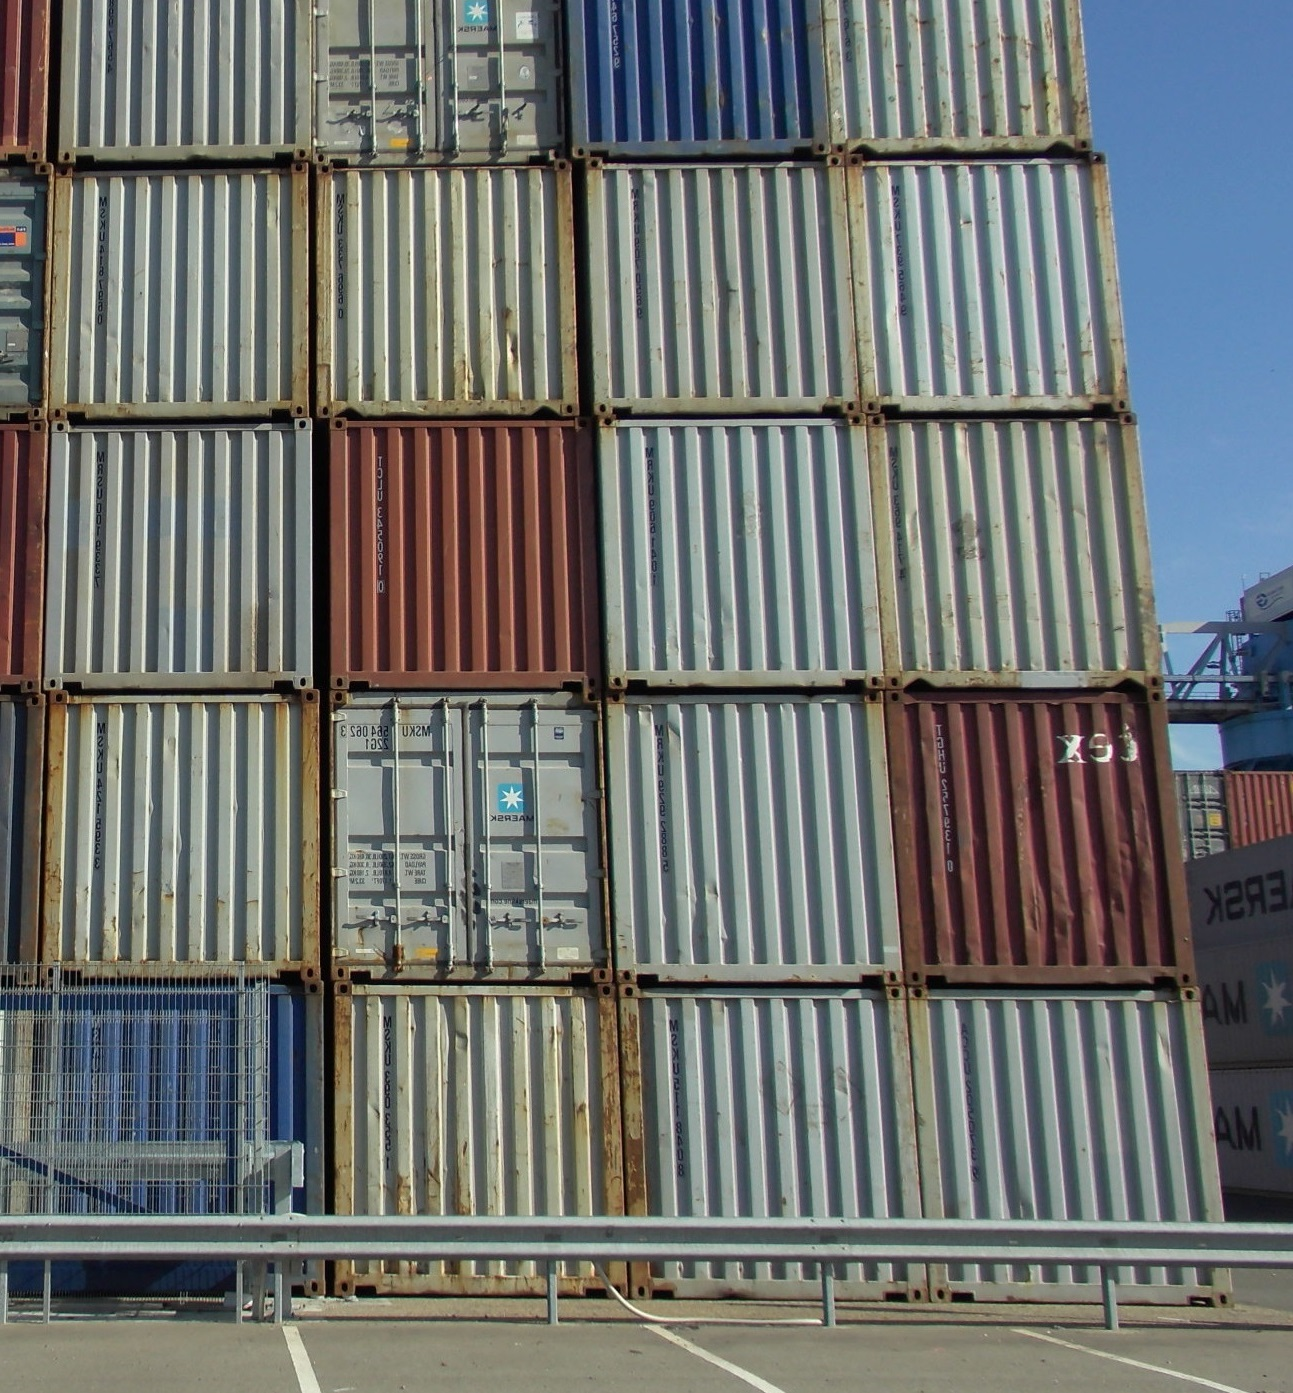container_door: (323, 686, 608, 985), (314, 1, 569, 159)
container_no_door: (623, 985, 919, 1297), (324, 985, 621, 1295), (927, 991, 1223, 1302), (614, 687, 903, 979), (902, 693, 1186, 989), (38, 693, 323, 986), (873, 413, 1167, 688), (598, 419, 886, 682), (323, 416, 591, 688), (847, 156, 1125, 416), (47, 418, 314, 689), (589, 164, 863, 414), (315, 168, 580, 421), (53, 165, 310, 418), (570, 1, 829, 159), (834, 1, 1092, 157), (63, 1, 307, 159)
